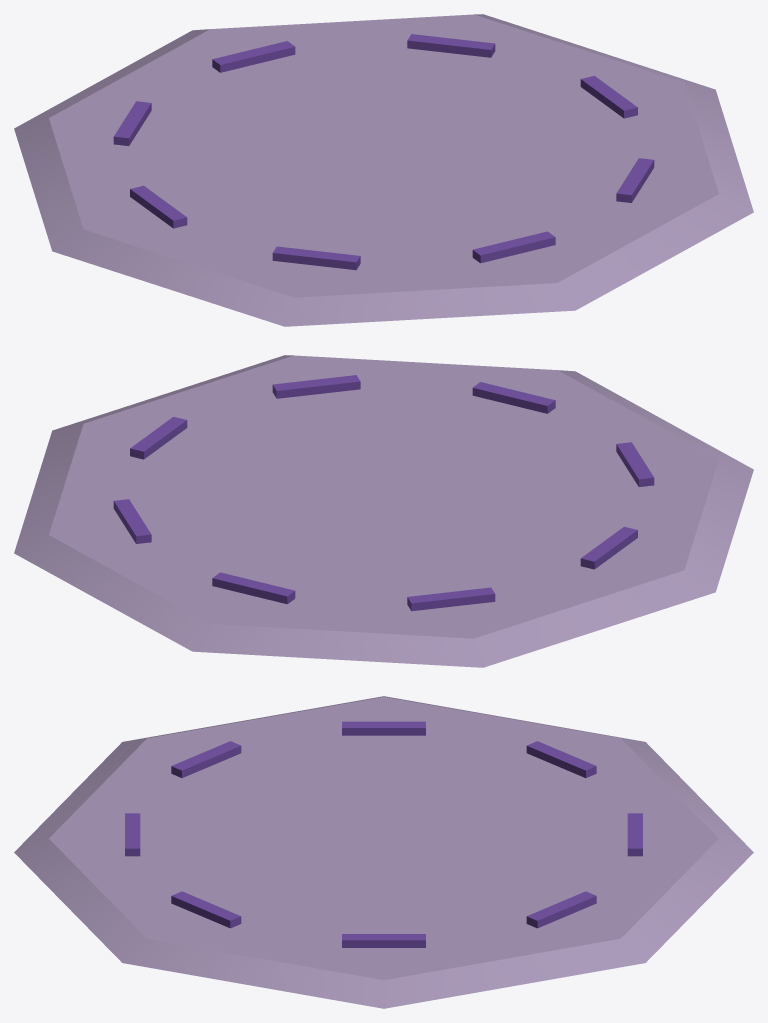
The model's file is foundation.glb.
The picture shows the model from 3 angles, top to bottom: view 1: azimuth 30°, elevation 25°; view 2: azimuth 150°, elevation 25°; view 3: azimuth 270°, elevation 25°; orthographic projection. The views are drawn at different scales.
Parts seen in each view (by area): view 1: foundation_inlay, foundation_rune_3, foundation_rune_7, foundation_rune_2, foundation_rune_6, foundation_rune_0, foundation_rune_4, foundation_rune_1, foundation_rune_5; view 2: foundation_inlay, foundation_rune_5, foundation_rune_1, foundation_rune_6, foundation_rune_2, foundation_rune_0, foundation_rune_4, foundation_rune_7, foundation_rune_3; view 3: foundation_inlay, foundation_rune_4, foundation_rune_0, foundation_rune_1, foundation_rune_7, foundation_rune_3, foundation_rune_5, foundation_rune_2, foundation_rune_6.
Boxes of the visible parts, x1,y1,x2,y2 form: foundation_inlay: (14, 14, 753, 326); foundation_rune_3: (272, 246, 360, 270); foundation_rune_7: (407, 34, 495, 57); foundation_rune_2: (472, 231, 555, 263); foundation_rune_6: (212, 41, 295, 72); foundation_rune_0: (580, 75, 637, 118); foundation_rune_4: (130, 185, 187, 228); foundation_rune_1: (616, 158, 654, 202); foundation_rune_5: (113, 101, 151, 145); foundation_inlay: (14, 355, 753, 667); foundation_rune_5: (407, 587, 495, 611); foundation_rune_1: (272, 375, 360, 398); foundation_rune_6: (212, 572, 295, 604); foundation_rune_2: (472, 382, 555, 413); foundation_rune_0: (130, 416, 187, 459); foundation_rune_4: (580, 526, 637, 569); foundation_rune_7: (113, 499, 151, 543); foundation_rune_3: (616, 442, 654, 486); foundation_inlay: (14, 696, 753, 1008); foundation_rune_4: (342, 721, 425, 735); foundation_rune_0: (342, 934, 425, 947); foundation_rune_1: (171, 891, 241, 928); foundation_rune_7: (526, 891, 596, 928); foundation_rune_3: (171, 741, 241, 777); foundation_rune_5: (526, 741, 596, 777); foundation_rune_2: (125, 813, 140, 856); foundation_rune_6: (627, 813, 642, 856).
Size of what is drawn, in the model's own units: 10.6 by 0.34 by 10.6.
